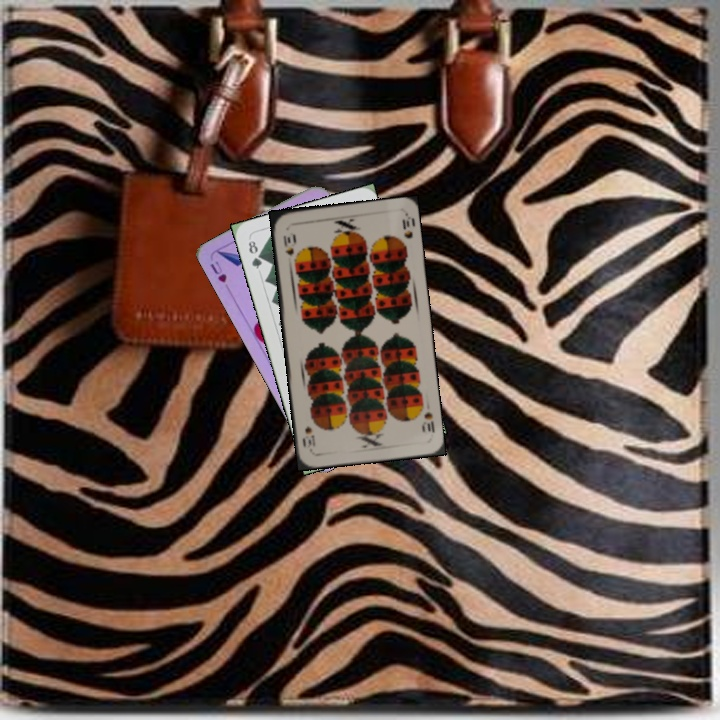G8: (244, 236, 265, 272)
HU: (206, 256, 229, 285)
S10: (418, 408, 437, 435), (279, 229, 296, 258)
